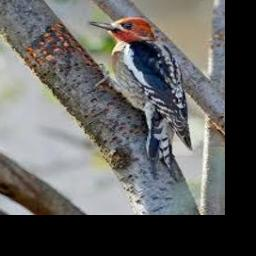Woodpecker: (88, 17, 192, 181)
